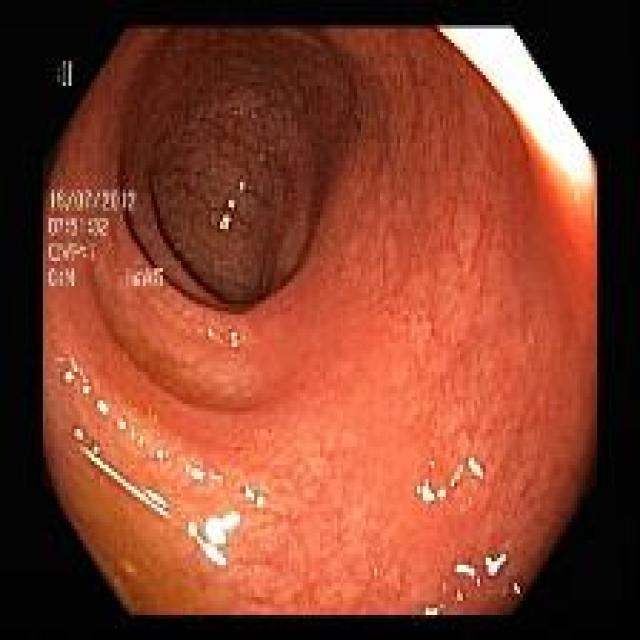ulcerative-colitis: (45, 31, 595, 615)
